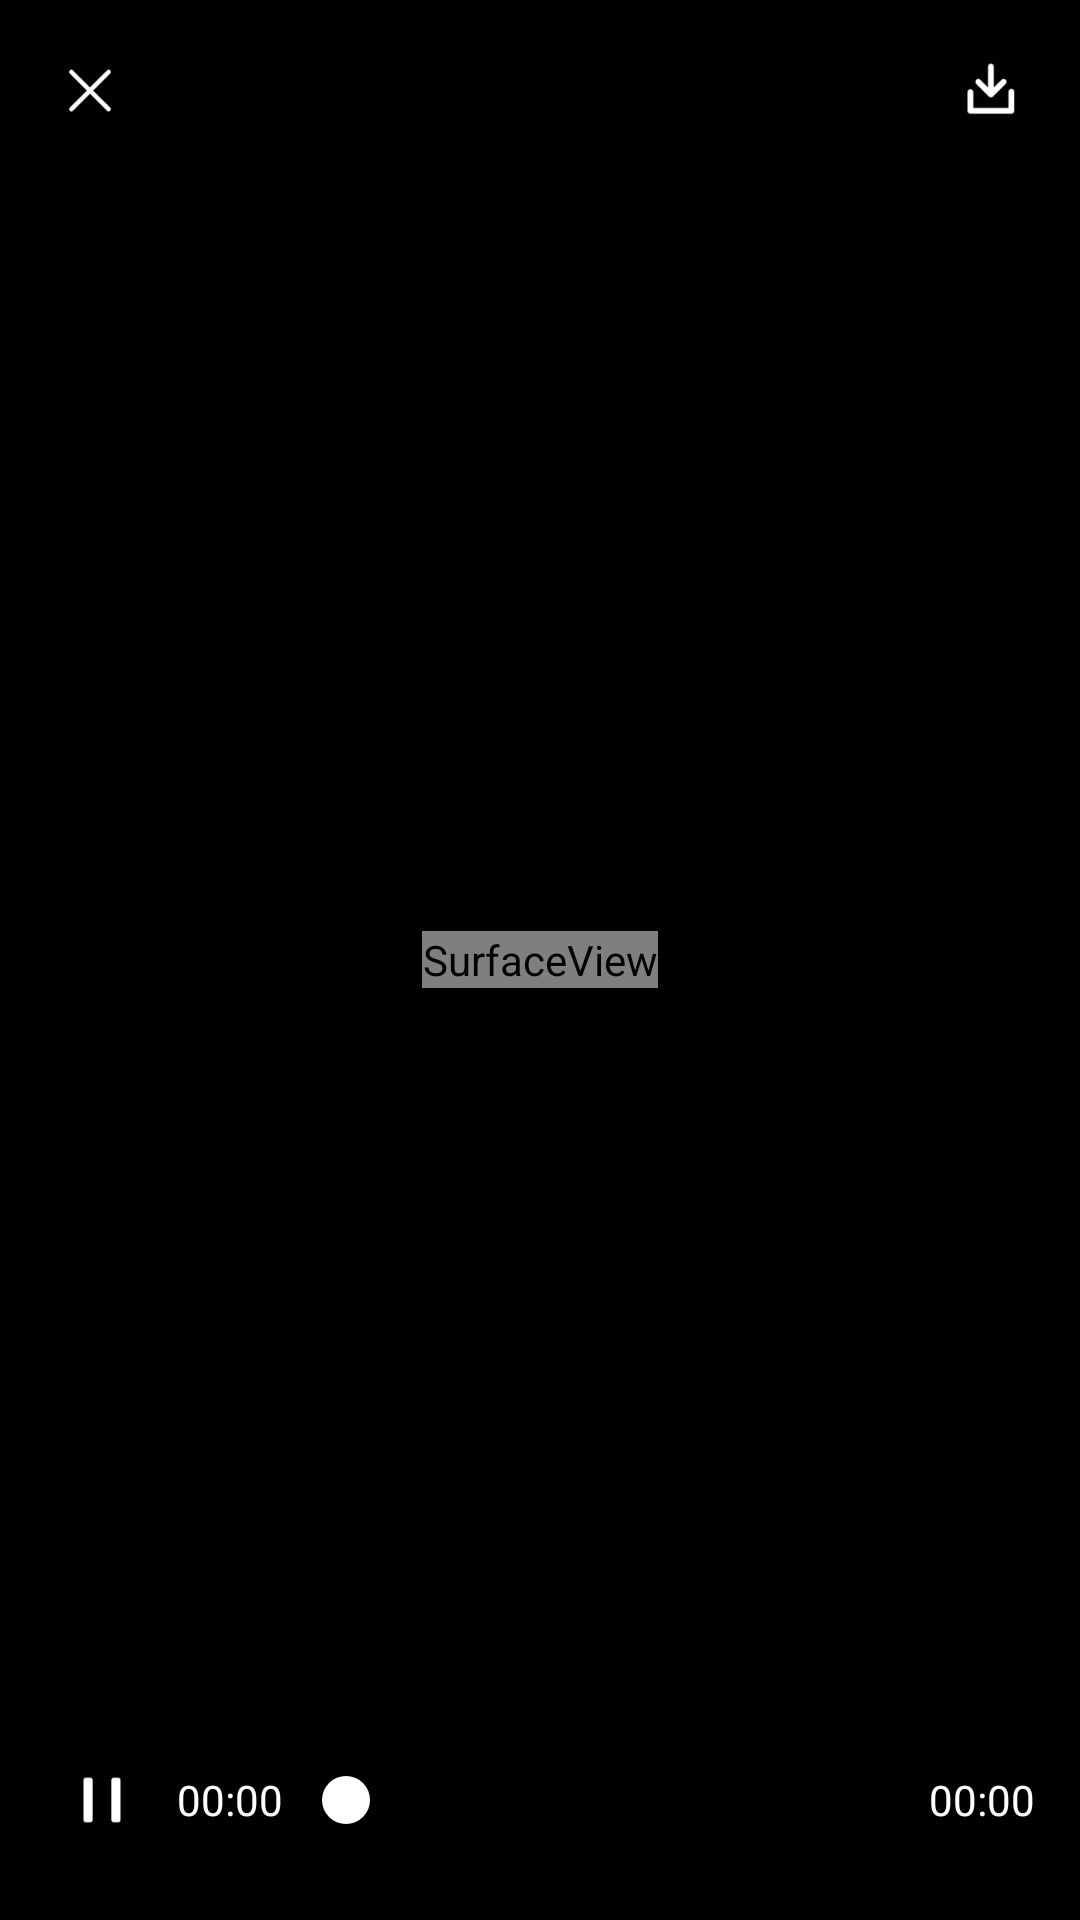

Named icons in this screenshot (1080 × 1920) and their centers, point (x, y):
close: point (90, 90)
pause: point (102, 1800)
save: point (991, 88)
